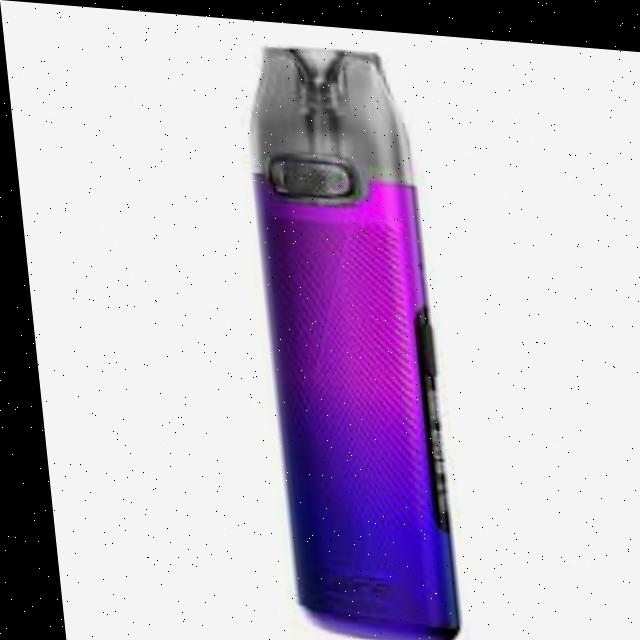vape: (237, 37, 453, 640)
